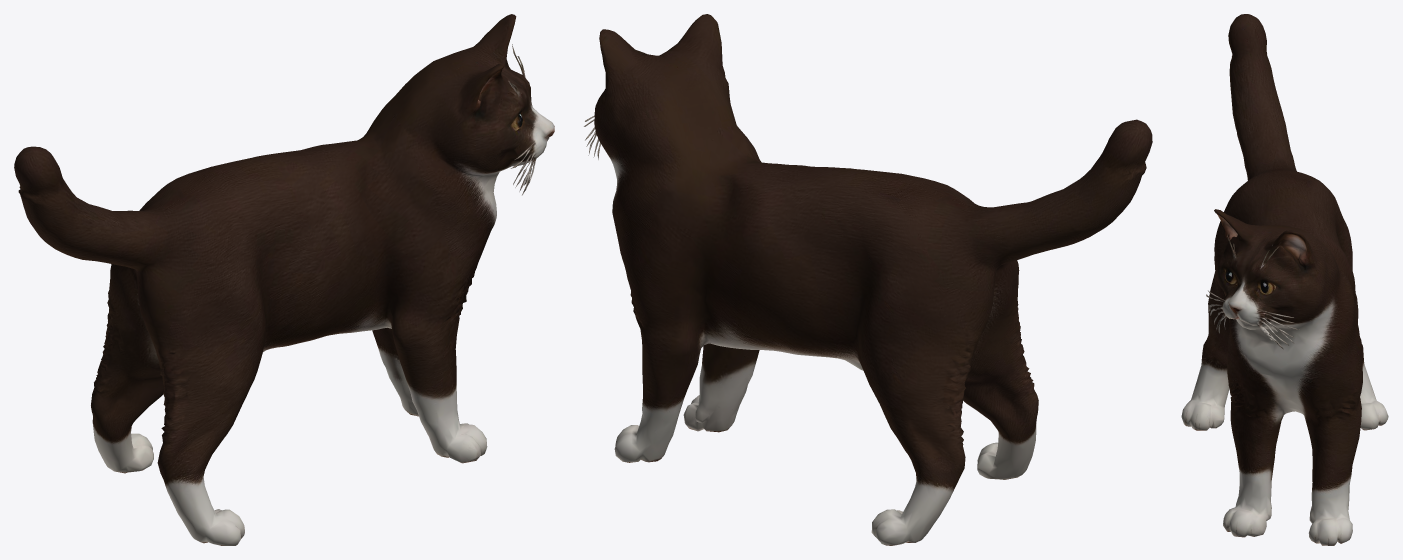
File: CURFEWPAW.glb
The picture shows the model from 3 angles, left to right: view 1: azimuth 30°, elevation 25°; view 2: azimuth 150°, elevation 25°; view 3: azimuth 270°, elevation 25°; orthographic projection. The views are drawn at different scales.
Visible parts, largest first — view 1: tripo_node_43c350a6-f527-4787-a3e0-c8193e1c272c; view 2: tripo_node_43c350a6-f527-4787-a3e0-c8193e1c272c; view 3: tripo_node_43c350a6-f527-4787-a3e0-c8193e1c272c.
Boxes of the visible parts, x1,y1,x2,y2 form: tripo_node_43c350a6-f527-4787-a3e0-c8193e1c272c: [14, 14, 554, 545]; tripo_node_43c350a6-f527-4787-a3e0-c8193e1c272c: [584, 14, 1152, 545]; tripo_node_43c350a6-f527-4787-a3e0-c8193e1c272c: [1181, 14, 1388, 545].
Bounding box in the file's own units: 1.38 × 1 × 0.5465.
1 material, 1 textured.
